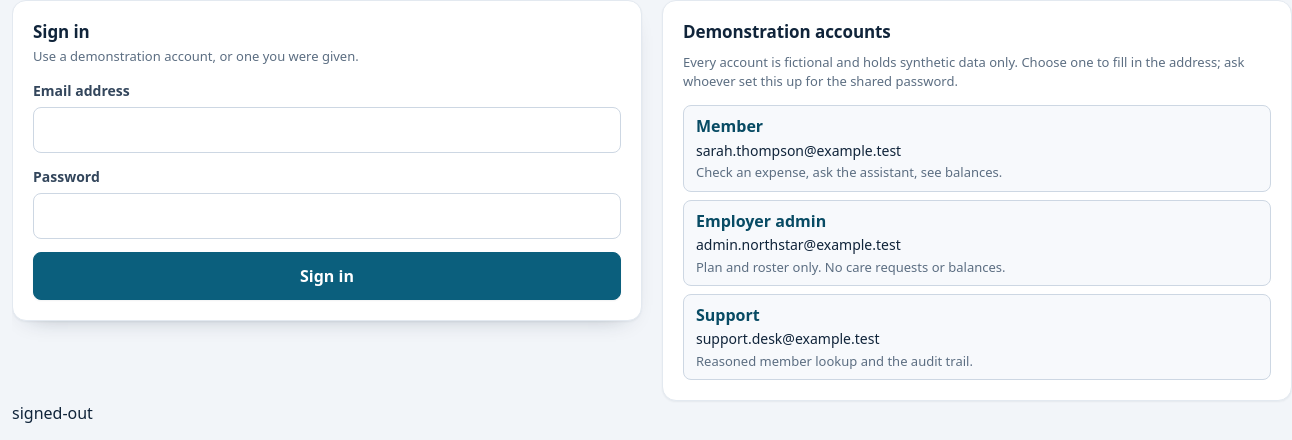
Test: signing in › keeps the token in memory and never writes it down
The image size is (1292, 440).
Type "sarah.thompson@example.test" into the field labelled "Email address" at [327, 130], box [33,107,621,153]
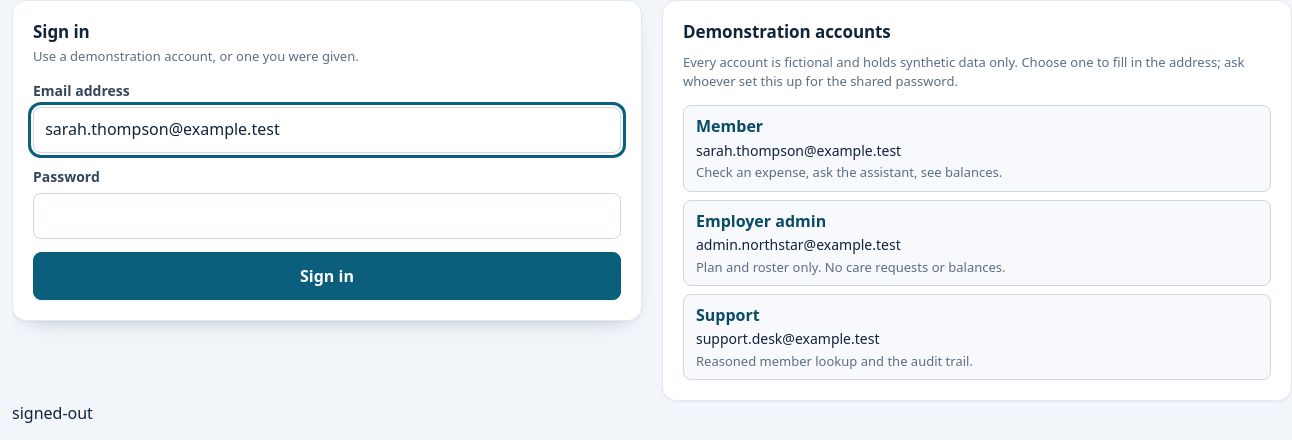
Type "a-password" into the password field labelled "Password" at [327, 216], box [33,193,621,239]
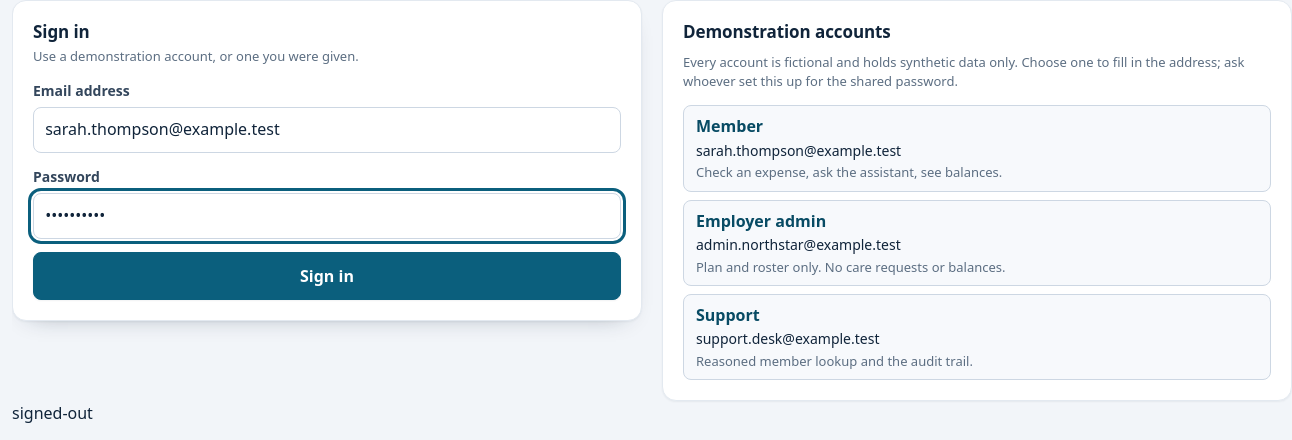
Click the button "Sign in" at [327, 276], box [33,252,621,300]
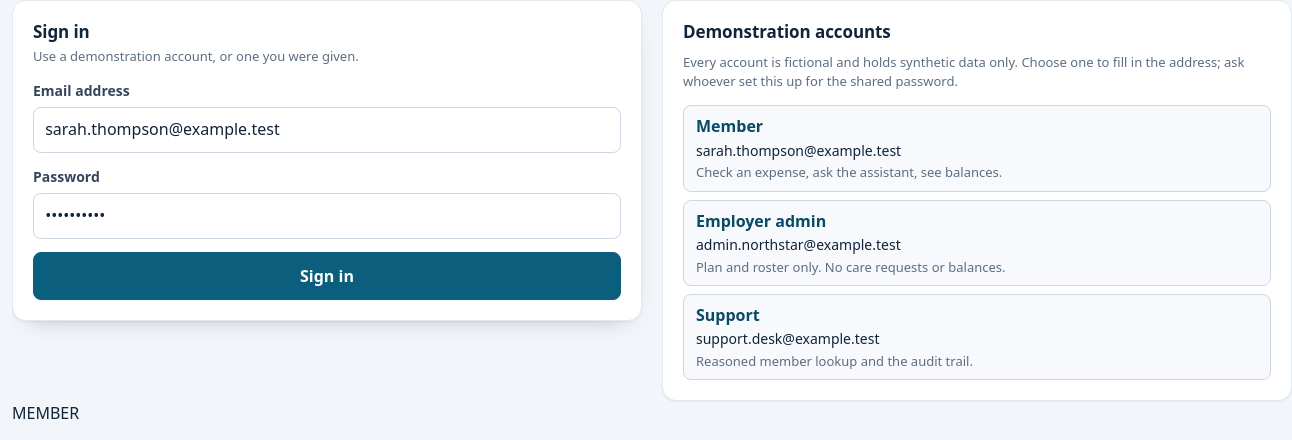
Now the text with test id "probe" reads "MEMBER", box [12,402,79,424]
